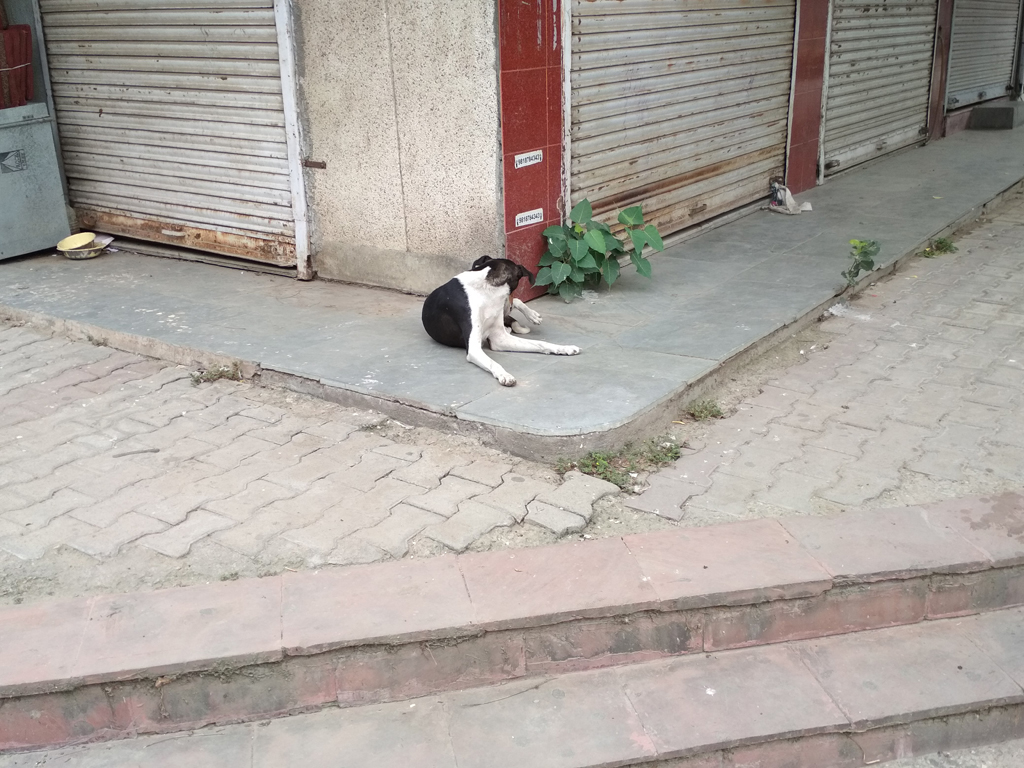dog: (423, 256, 585, 386)
